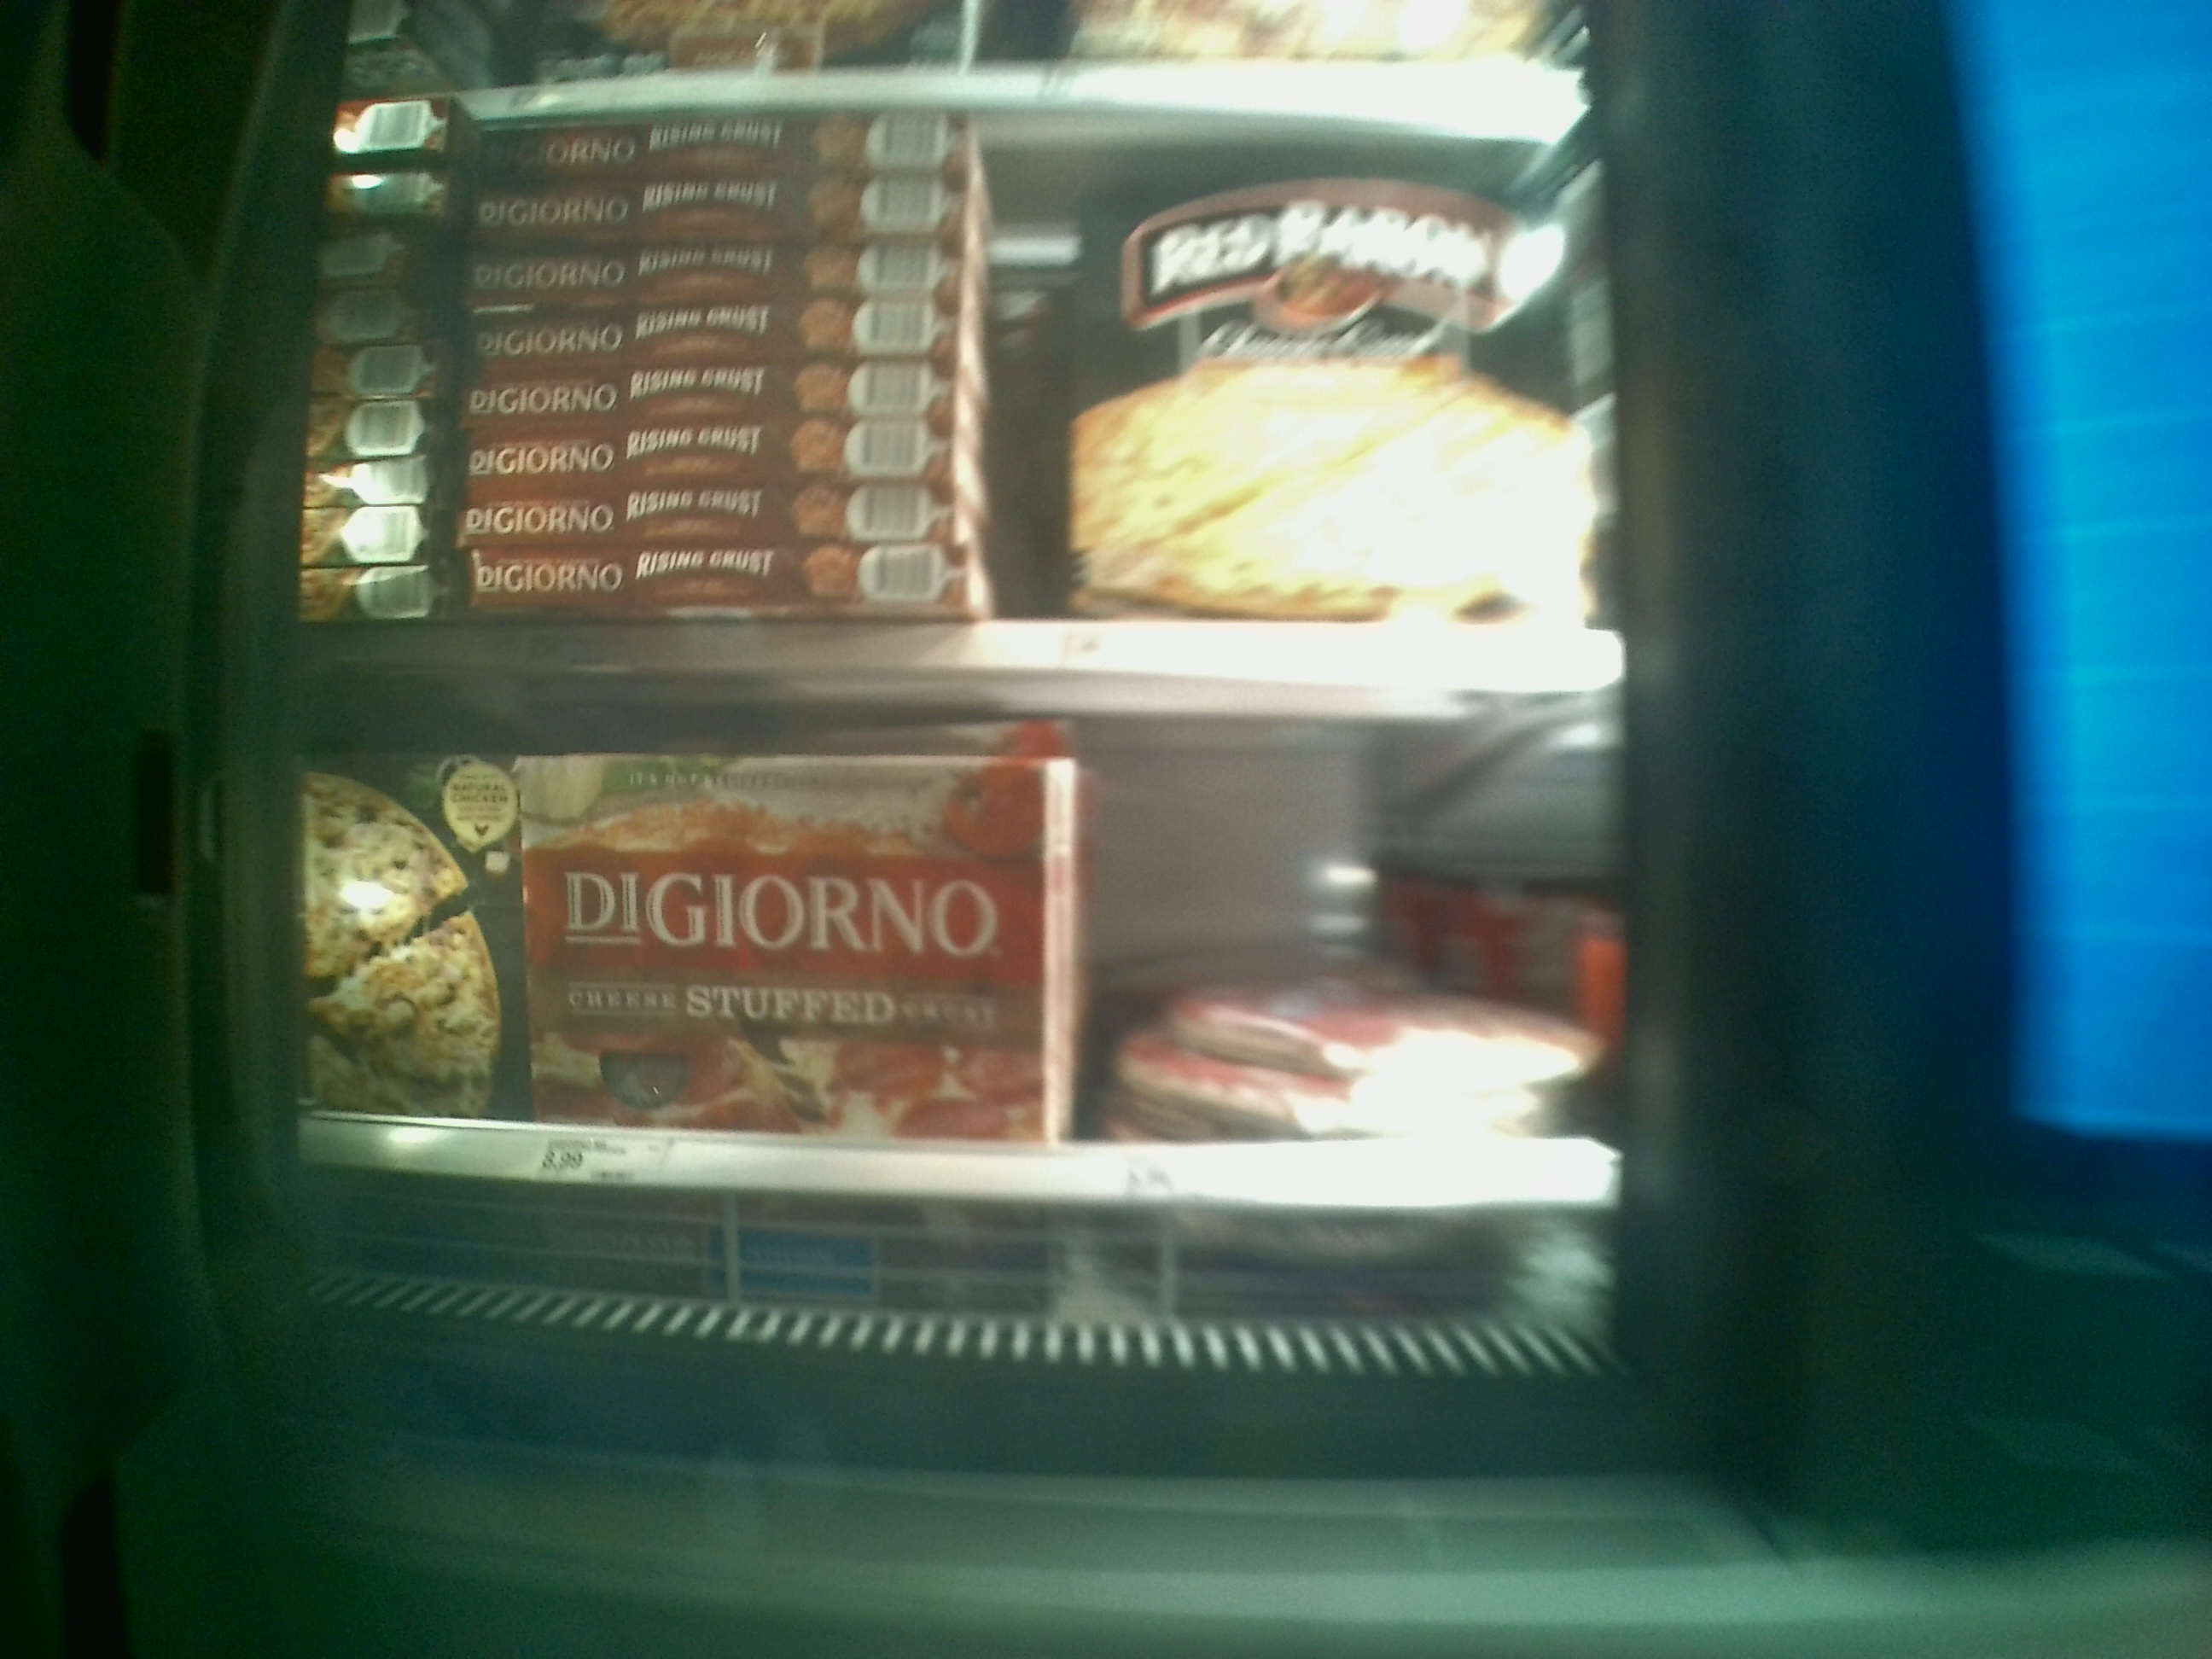shelf: (298, 660, 1684, 1342)
